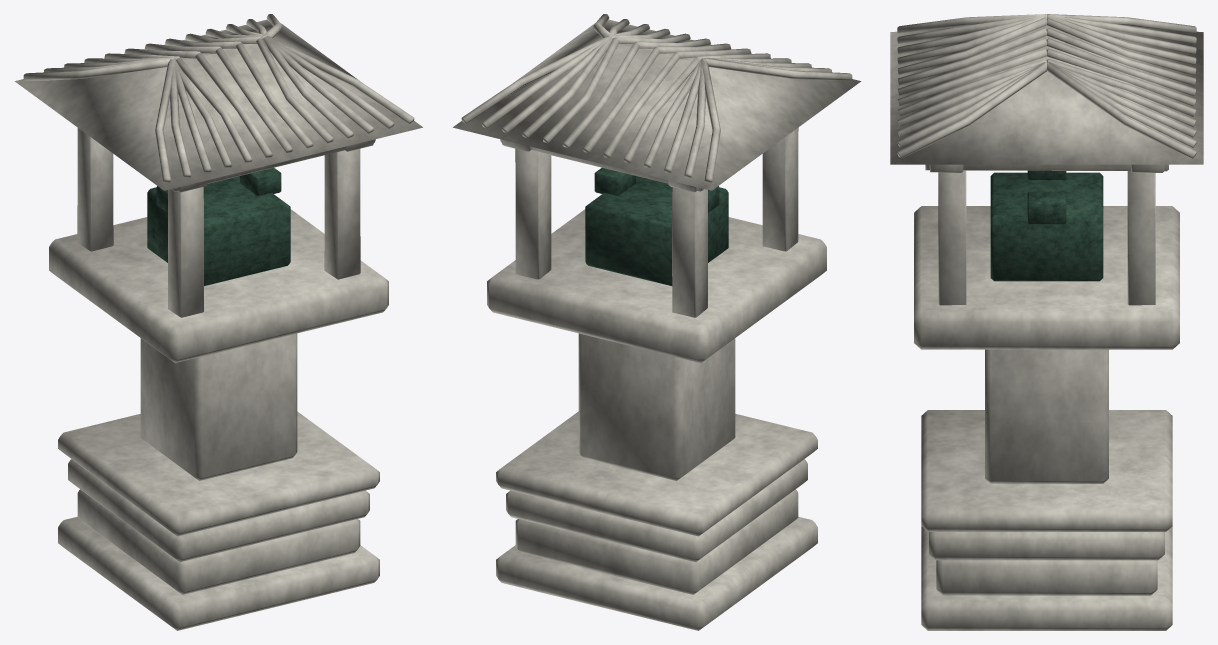
Rendered from viljamitta.glb.
The picture shows the model from 3 angles, left to right: view 1: azimuth 30°, elevation 25°; view 2: azimuth 150°, elevation 25°; view 3: azimuth 270°, elevation 25°; orthographic projection. The views are drawn at different scales.
Visible parts, largest first — view 1: vaalea-kivi, vihrea-pronssipatina; view 2: vaalea-kivi, vihrea-pronssipatina; view 3: vaalea-kivi, vihrea-pronssipatina.
Boxes of the visible parts, x1,y1,x2,y2 form: vaalea-kivi: (14, 14, 422, 630); vihrea-pronssipatina: (147, 167, 290, 285); vaalea-kivi: (453, 14, 861, 630); vihrea-pronssipatina: (585, 167, 728, 285); vaalea-kivi: (890, 14, 1203, 630); vihrea-pronssipatina: (990, 170, 1103, 281).
Size of the model in its own units: 1.05 by 2 by 1.05.
2 materials, 2 textured.
